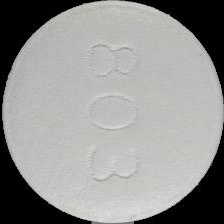0228-2803: (0, 0, 224, 224)
